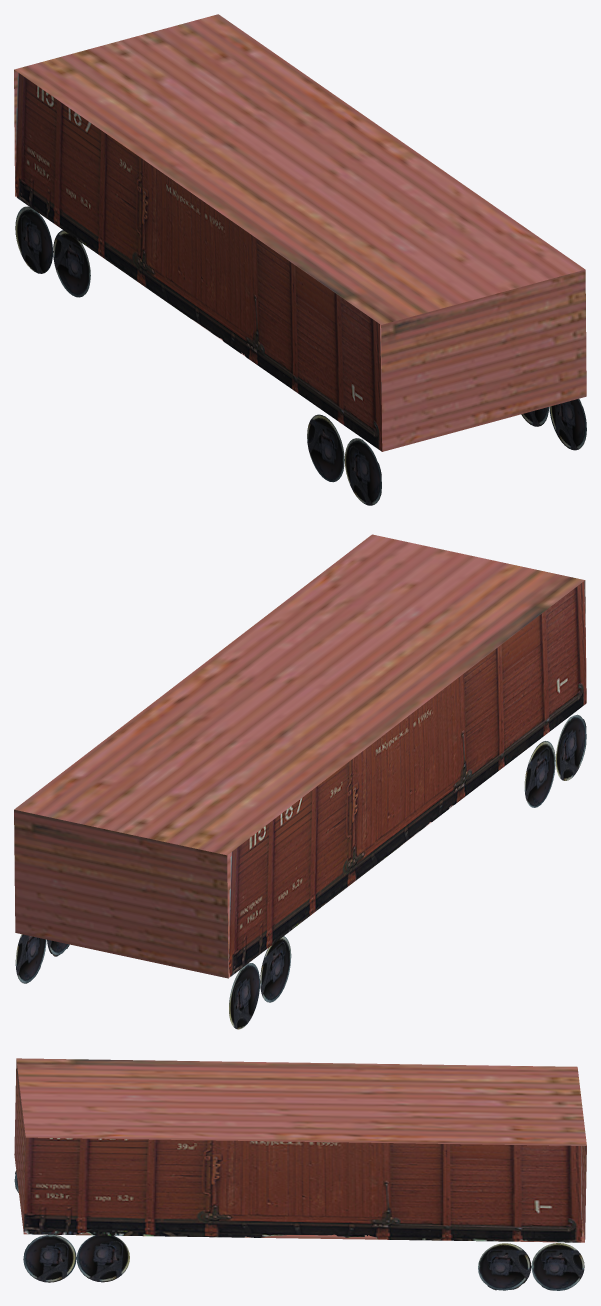
Rendered from cart2.fbx.
3 renders of one model, top to bottom at view 1: azimuth 30°, elevation 25°; view 2: azimuth 150°, elevation 25°; view 3: azimuth 270°, elevation 25°, orthographic. The views are drawn at different scales.
Visible parts, largest first — view 1: Cube.001, Circle.003, Circle, Circle.002, Circle.001, Circle.005; view 2: Cube.001, Circle.003, Circle.002, Circle, Circle.001, Circle.007; view 3: Cube.001, Circle.005, Circle.007, Circle.004, Circle.006.
Part boxes in pixels (<box>): Cube.001: <box>14,14,586,451</box>; Circle.003: <box>307,414,344,482</box>; Circle: <box>15,206,52,273</box>; Circle.002: <box>344,438,381,505</box>; Circle.001: <box>53,230,90,297</box>; Circle.005: <box>549,399,586,450</box>; Cube.001: <box>14,534,586,978</box>; Circle.003: <box>524,741,555,807</box>; Circle.002: <box>555,714,586,780</box>; Circle: <box>229,963,259,1029</box>; Circle.001: <box>260,936,291,1002</box>; Circle.007: <box>15,934,46,983</box>; Cube.001: <box>14,1058,586,1242</box>; Circle.005: <box>23,1234,76,1282</box>; Circle.007: <box>531,1243,584,1290</box>; Circle.004: <box>76,1235,129,1282</box>; Circle.006: <box>478,1243,531,1290</box>.
Size of the model in its own units: 734 by 637 by 2146.
1 material, 1 textured.
